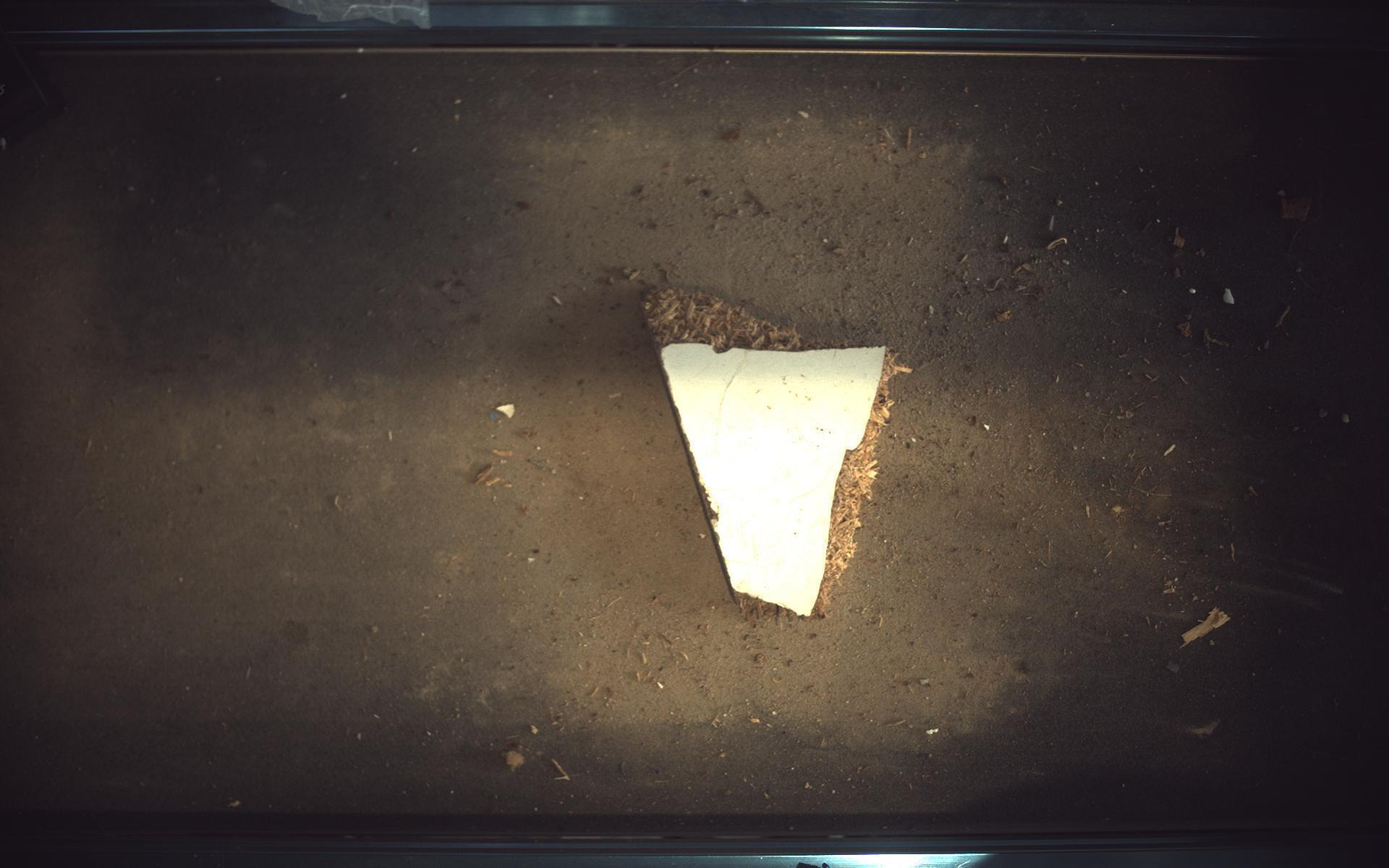wood: (646, 289, 901, 616)
